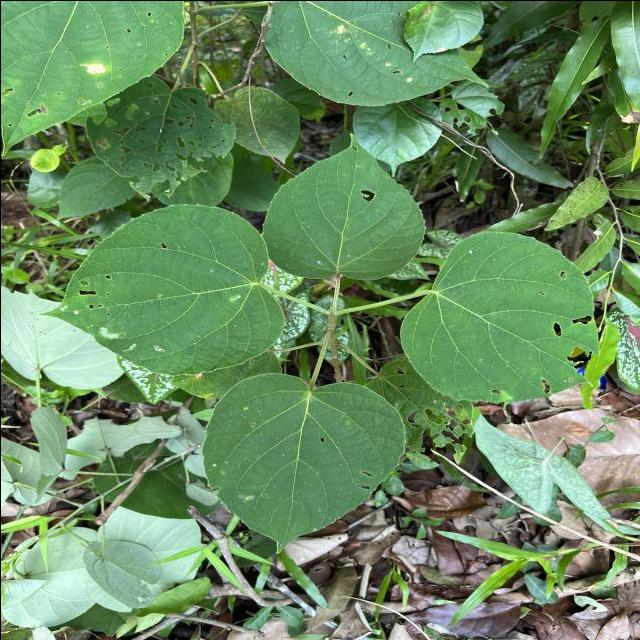Clerodendrum infortunatum: (36, 200, 290, 378), (200, 371, 407, 554), (395, 229, 600, 405), (257, 132, 427, 282)
